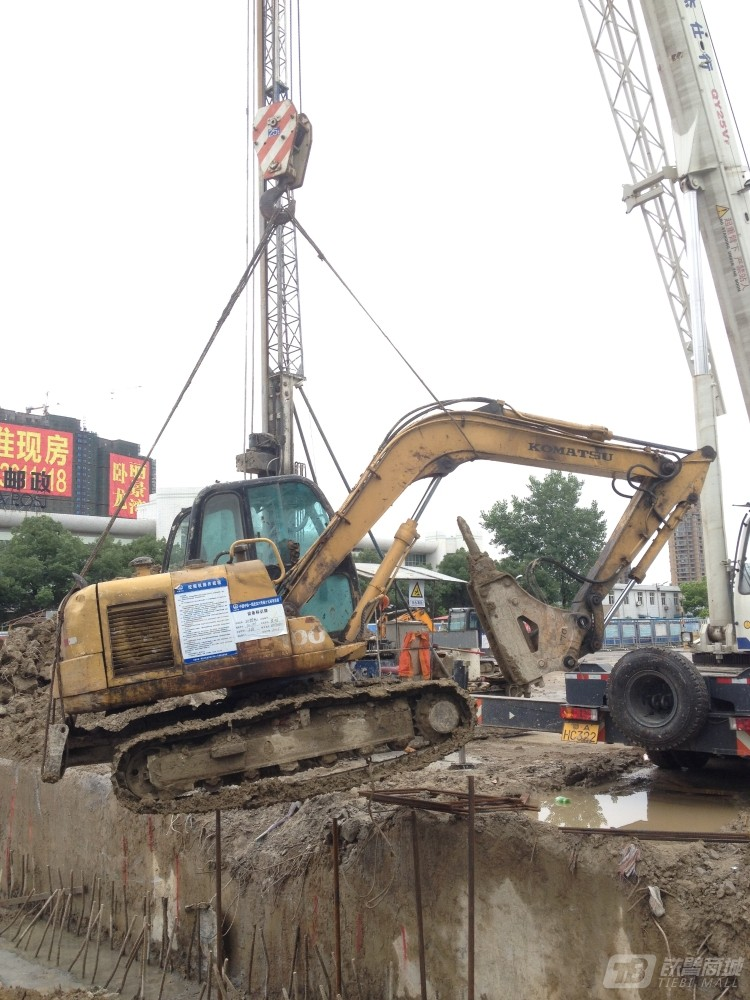excavator: (36, 394, 732, 843)
